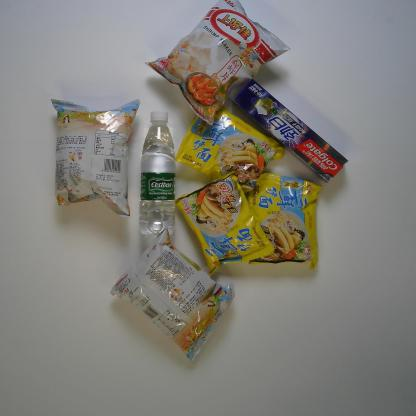Drink: (138, 110, 178, 238)
Instant Noodles: (174, 168, 275, 279), (174, 105, 286, 195), (244, 172, 323, 272)
Personal Hygiene: (232, 76, 350, 184)
Puffed Food: (144, 0, 292, 127), (109, 225, 236, 368), (49, 97, 141, 220)
